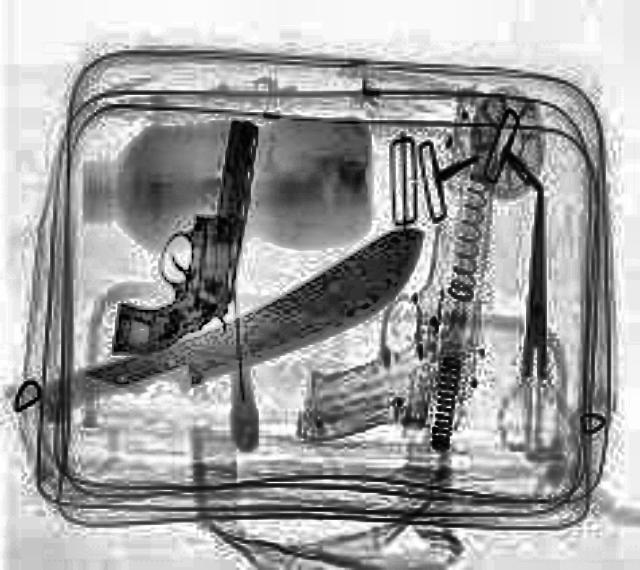Gun: (107, 113, 257, 350)
Knife: (82, 222, 424, 386)
